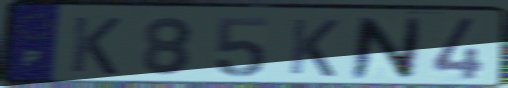4: (428, 15, 487, 84)
5: (213, 15, 271, 79)
8: (141, 15, 196, 78)
K: (286, 16, 343, 79), (68, 14, 124, 78)
N: (347, 15, 425, 81)
